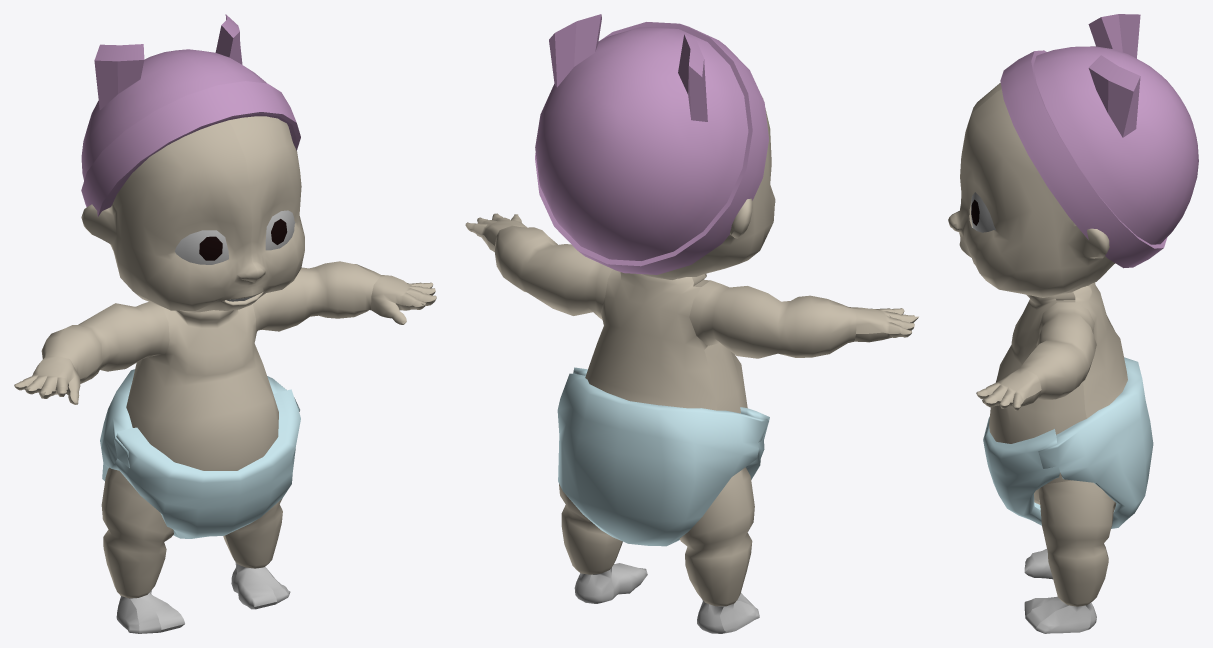
Rendered from final_baby.fbx.
3 renders of one model, left to right at view 1: azimuth 30°, elevation 25°; view 2: azimuth 150°, elevation 25°; view 3: azimuth 270°, elevation 25°, orthographic. The views are drawn at different scales.
Parts seen in each view (by area): view 1: skin, hat, diaper, feet, eyes; view 2: skin, hat, diaper, feet; view 3: skin, hat, diaper, feet, eyes.
Part boxes in pixels (x1,y1,x2,y2): skin: (14,116,436,598); hat: (81,14,300,216); diaper: (100,369,300,538); feet: (116,562,290,633); eyes: (175,210,295,264); skin: (465,98,918,606); hat: (535,14,768,274); diaper: (557,367,769,546); feet: (574,563,759,633); skin: (948,83,1127,606); hat: (1000,14,1198,268); diaper: (983,357,1153,528); feet: (1024,549,1096,633); eyes: (970,192,995,232).
Size of the model in its own units: 50.19 by 64.54 by 26.06.
